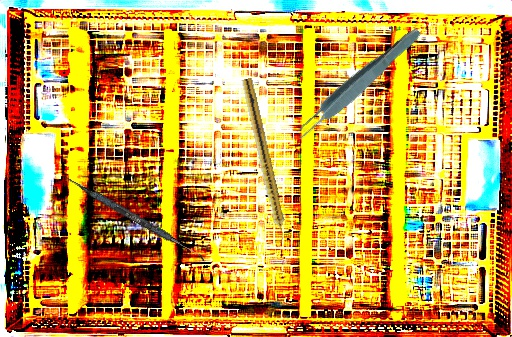Handpiece: (238, 77, 290, 245)
Spatula Surgical: (60, 173, 208, 262)
Tissue Forceps: (289, 22, 426, 145)
